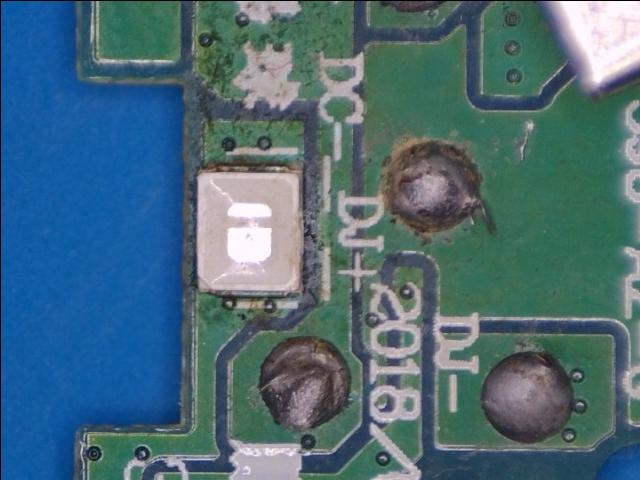Dry_joint: (258, 337, 350, 431), (387, 141, 479, 234), (481, 353, 574, 444)
